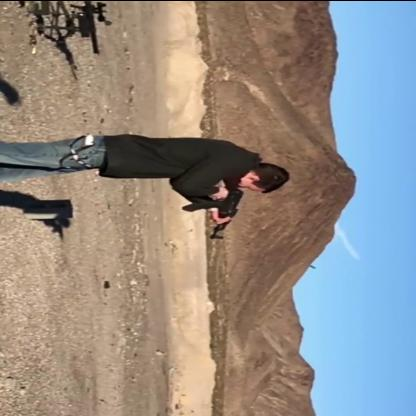long weapon: (173, 172, 247, 243)
